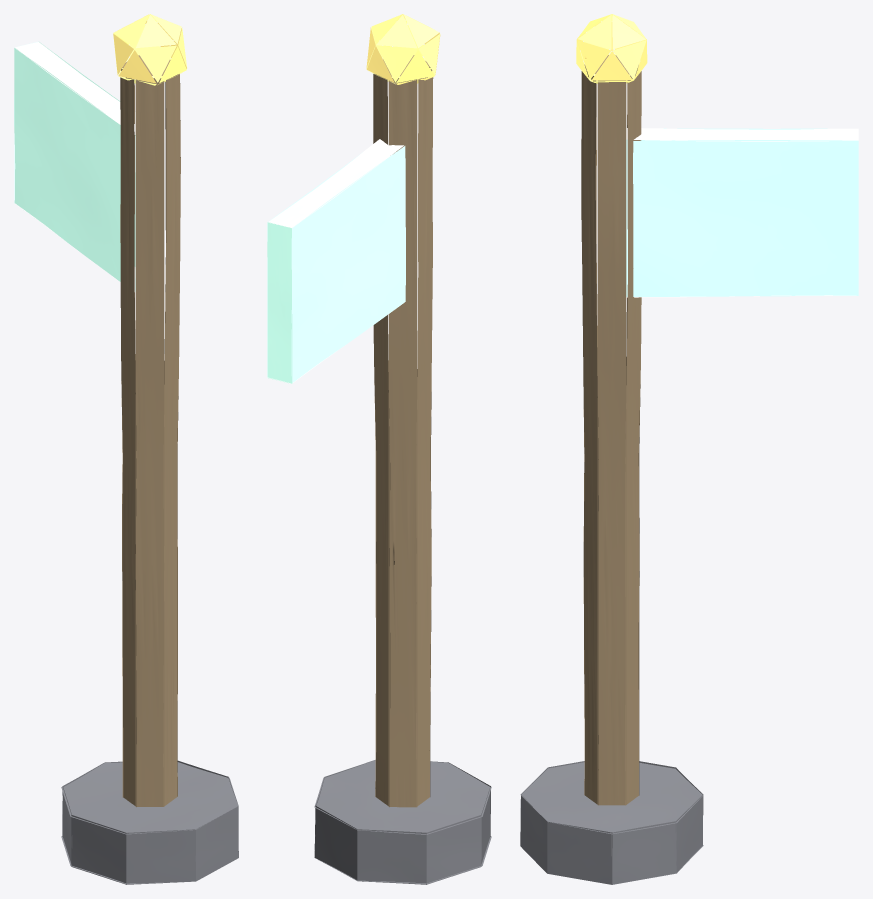
Rendered from flag.glb.
3 renders of one model, left to right at view 1: azimuth 30°, elevation 25°; view 2: azimuth 150°, elevation 25°; view 3: azimuth 270°, elevation 25°, orthographic.
Visible parts, largest first — view 1: FlagPole; view 2: FlagPole; view 3: FlagPole.
Part boxes in pixels (bbox=[...]): FlagPole: bbox=[14, 14, 238, 884]; FlagPole: bbox=[267, 14, 491, 884]; FlagPole: bbox=[520, 14, 858, 884].
Size of the model in its own units: 0.32 by 1.6 by 0.5901.
